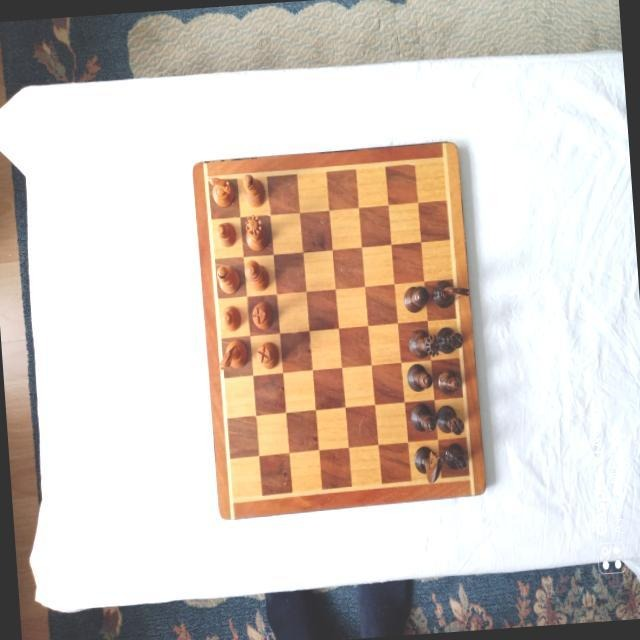black-bishop: (406, 361, 433, 393), (410, 400, 436, 433)
black-king: (402, 283, 430, 312)
black-knight: (412, 444, 445, 484), (431, 277, 471, 307)
black-pawn: (444, 440, 468, 471), (437, 368, 461, 392)
black-queen: (408, 325, 442, 358)
black-rook: (435, 403, 465, 436), (436, 326, 464, 354)
white-bishop: (242, 172, 266, 207), (215, 264, 240, 296)
white-king: (242, 258, 269, 292)
white-knight: (216, 339, 248, 369), (207, 173, 235, 207)
white-pawn: (215, 220, 237, 247), (221, 304, 243, 331)
white-queen: (243, 213, 268, 251)
white-rook: (256, 339, 280, 368), (250, 300, 273, 329)
